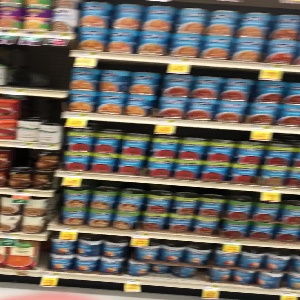void: (2, 41, 71, 95)
